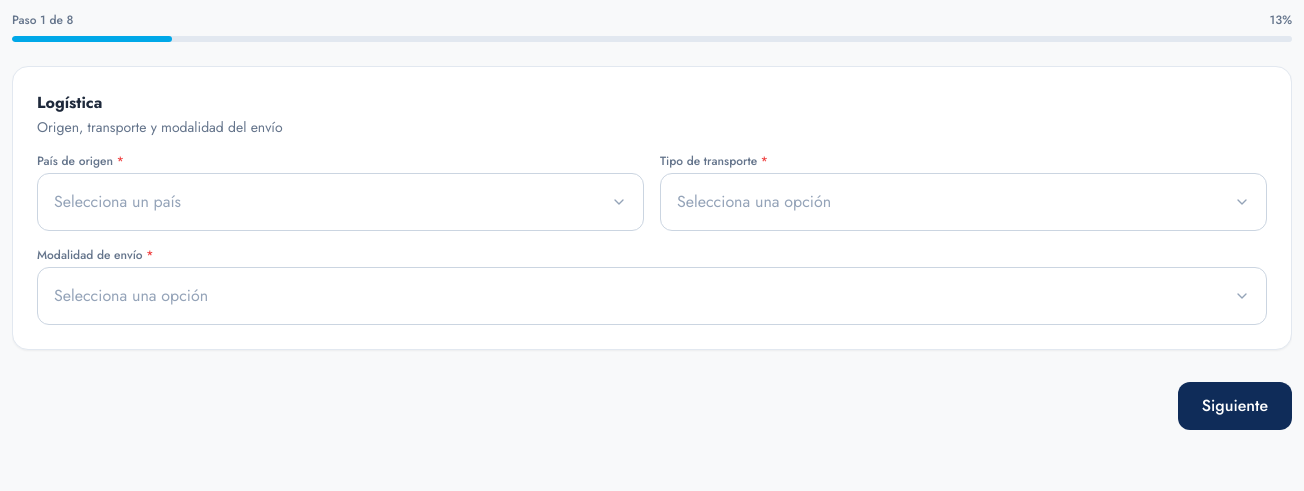
ShipmentForm — navegación por pasos › bloquea 'Siguiente' en el paso 1 y muestra los errores del paso
Click the button "Siguiente": [1235, 406] box [1178, 382, 1292, 430]
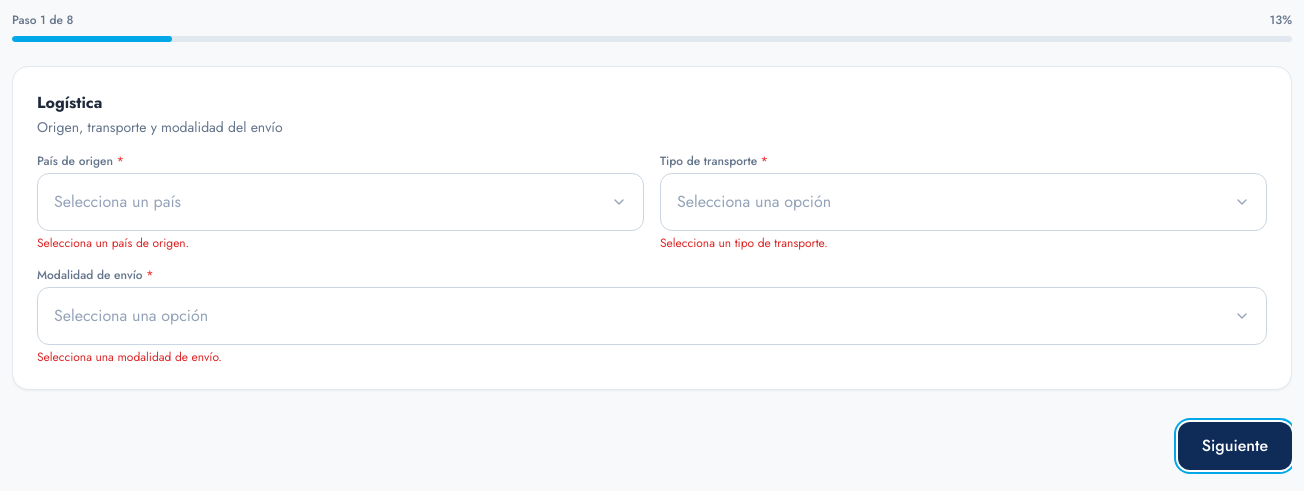
Check: the text "Selecciona un país de origen." is shown, box [37, 234, 189, 252]
Check: the text "Selecciona un tipo de transporte." is shown, box [660, 234, 828, 252]
Check: the text "Selecciona una modalidad de envío." is shown, box [37, 348, 222, 366]
